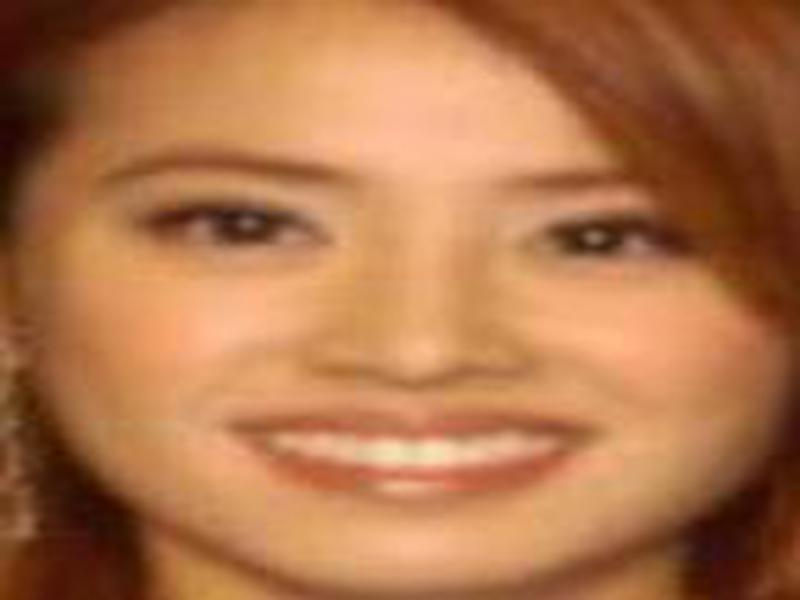without_mask: (19, 18, 772, 584)
